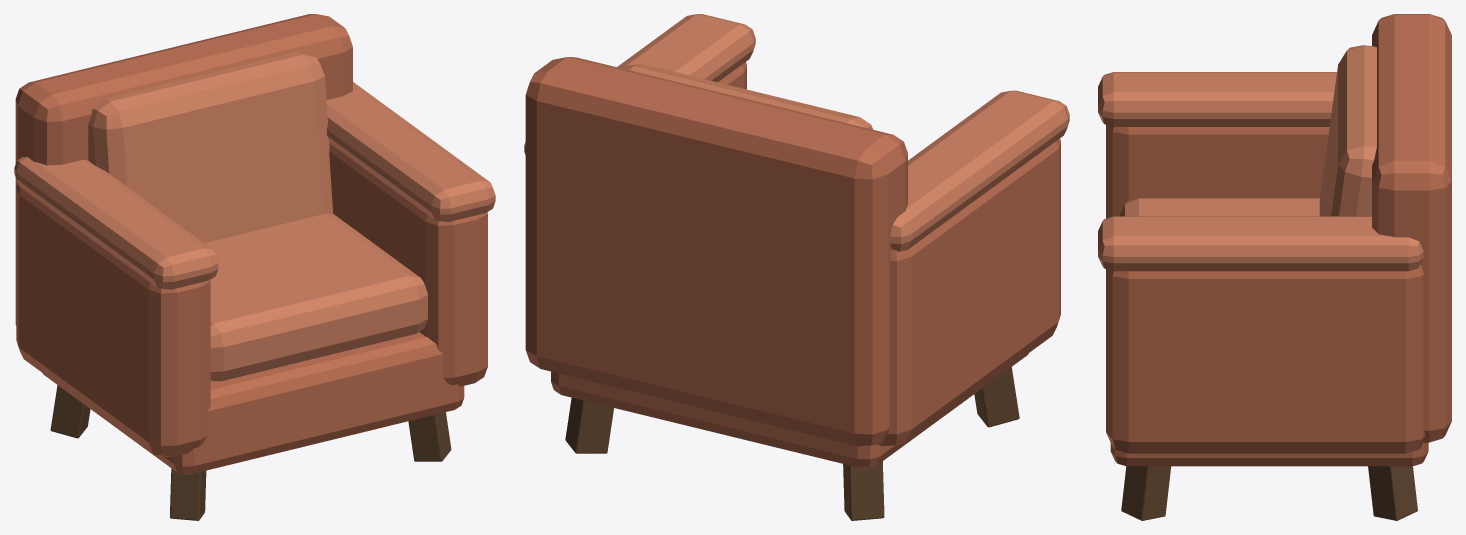
The model's file is chair_armchair.glb.
The picture shows the model from 3 angles, left to right: view 1: azimuth 30°, elevation 25°; view 2: azimuth 150°, elevation 25°; view 3: azimuth 270°, elevation 25°; orthographic projection. The views are drawn at different scales.
Visible parts, largest first — view 1: Armchair_Back_Cushion, Armchair_Arm_And_Side, Armchair_Seat_Cushion, Armchair_Upholstered_Base, Armchair_Back_Frame, Armchair_Arm_And_Side.001, Armchair_Arm_Top, Armchair_Arm_Top.001, Armchair_Leg.002, Armchair_Leg, Armchair_Leg.001; view 2: Armchair_Back_Frame, Armchair_Arm_And_Side, Armchair_Arm_Top, Armchair_Upholstered_Base, Armchair_Arm_Top.001, Armchair_Back_Cushion, Armchair_Leg.003, Armchair_Leg.001, Armchair_Leg; view 3: Armchair_Arm_And_Side.001, Armchair_Back_Frame, Armchair_Arm_Top.001, Armchair_Arm_And_Side, Armchair_Arm_Top, Armchair_Back_Cushion, Armchair_Upholstered_Base, Armchair_Seat_Cushion, Armchair_Leg.002, Armchair_Leg.003.
Part boxes in pixels (bbox=[...]): Armchair_Back_Cushion: bbox=[88, 52, 332, 243]; Armchair_Arm_And_Side: bbox=[16, 184, 210, 456]; Armchair_Seat_Cushion: bbox=[204, 213, 427, 381]; Armchair_Upholstered_Base: bbox=[43, 332, 464, 474]; Armchair_Back_Frame: bbox=[15, 14, 352, 325]; Armchair_Arm_And_Side.001: bbox=[329, 143, 487, 386]; Armchair_Arm_Top: bbox=[14, 157, 218, 289]; Armchair_Arm_Top.001: bbox=[326, 82, 495, 221]; Armchair_Leg.002: bbox=[408, 412, 451, 461]; Armchair_Leg: bbox=[170, 468, 206, 520]; Armchair_Leg.001: bbox=[50, 385, 90, 438]; Armchair_Back_Frame: bbox=[525, 57, 907, 446]; Armchair_Arm_And_Side: bbox=[877, 139, 1060, 446]; Armchair_Arm_Top: bbox=[890, 90, 1069, 251]; Armchair_Upholstered_Base: bbox=[551, 353, 1028, 467]; Armchair_Arm_Top.001: bbox=[524, 14, 755, 154]; Armchair_Back_Cushion: bbox=[621, 64, 873, 129]; Armchair_Leg.003: bbox=[565, 397, 613, 453]; Armchair_Leg.001: bbox=[843, 461, 884, 520]; Armchair_Leg: bbox=[974, 367, 1019, 427]; Armchair_Arm_And_Side.001: bbox=[1106, 264, 1424, 453]; Armchair_Back_Frame: bbox=[1372, 14, 1451, 442]; Armchair_Arm_Top.001: bbox=[1098, 216, 1423, 271]; Armchair_Arm_And_Side: bbox=[1106, 125, 1329, 218]; Armchair_Arm_Top: bbox=[1098, 72, 1336, 126]; Armchair_Back_Cushion: bbox=[1319, 45, 1376, 216]; Armchair_Upholstered_Base: bbox=[1110, 442, 1428, 466]; Armchair_Seat_Cushion: bbox=[1119, 198, 1319, 216]; Armchair_Leg.002: bbox=[1121, 466, 1171, 520]; Armchair_Leg.003: bbox=[1368, 466, 1417, 520].
Bounding box in the file's own units: 0.839 × 0.8052 × 0.7085.
